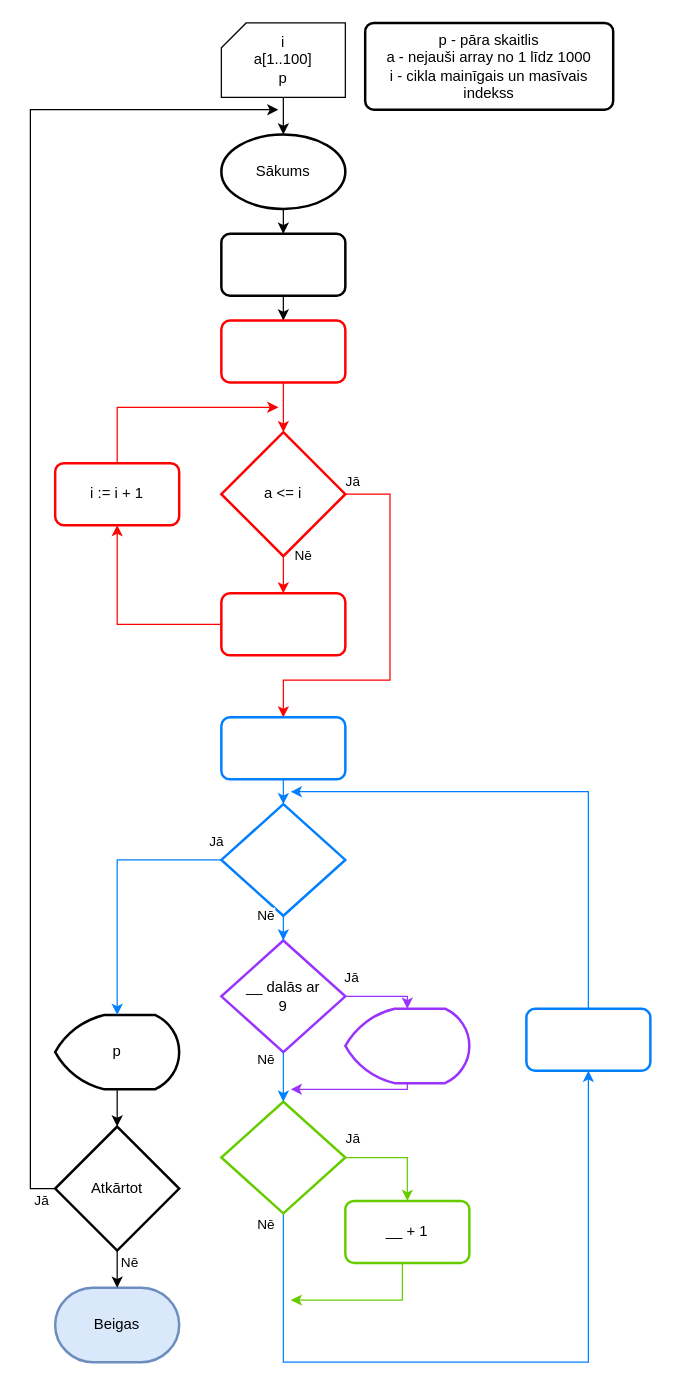
Some shapes in this 673 by 1394 pixel diagram are drawn without their labels. The shapes that lost their labels are listed below. From the top down, each one's centre as x and y in pixels, then its label:
At (x=282, y=264): "p = 2".
At (x=282, y=351): "i = 1".
At (x=282, y=747): "i = __".
At (x=406, y=1045): "parāda uz ekrāna __".
At (x=282, y=1157): "__ ir pāra skaitlis".
